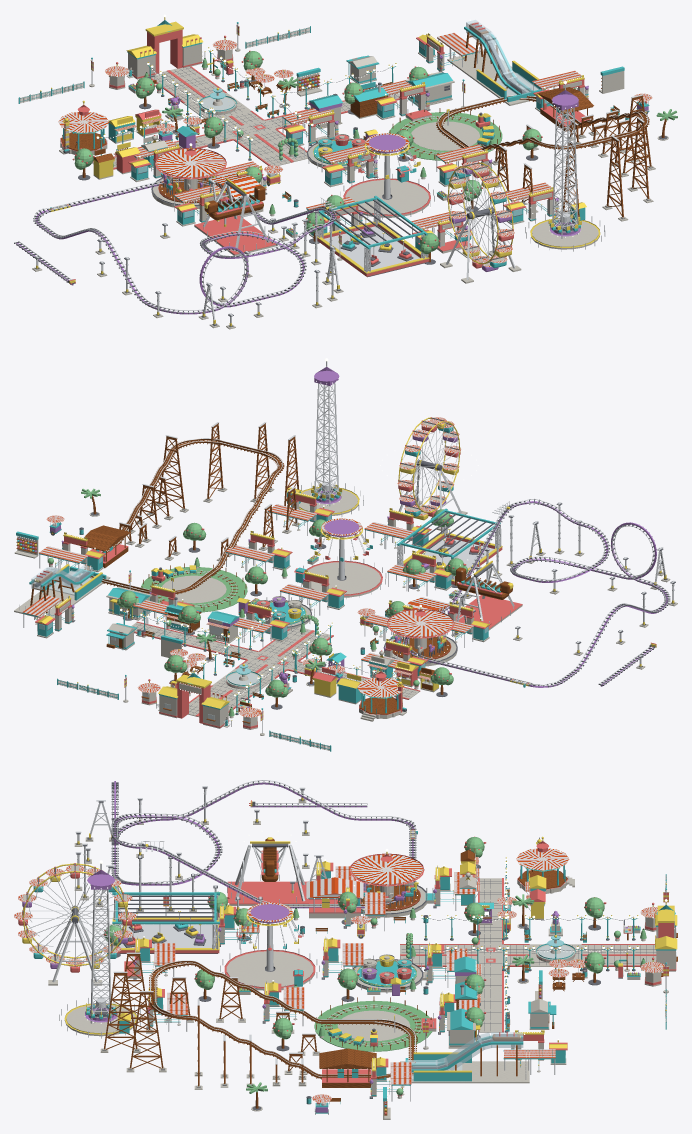
The model's file is theme-park-rides-and-coasters-theme-park-12693136-starter-scene__28720.glb.
The picture shows the model from 3 angles, top to bottom: view 1: azimuth 30°, elevation 25°; view 2: azimuth 150°, elevation 25°; view 3: azimuth 270°, elevation 25°; orthographic projection. The views are drawn at different scales.
Parts seen in each view (by area): view 1: 264-theme-park-rides-and-coasters-drop-tower/2, 193-theme-park-rides-and-coasters-chair-swing-ride/0, 205-theme-park-rides-and-coasters-bumper-car-arena/1, 157-theme-park-rides-and-coasters-carousel/carousel/stripe, 217-theme-park-rides-and-coasters-kiddie-train-ride/1, 181-theme-park-rides-and-coasters-pirate-ship/1, 229-theme-park-rides-and-coasters-log-flume-section/1, 217-theme-park-rides-and-coasters-kiddie-train-ride/0, 252-theme-park-rides-and-coasters-ferris-wheel/wheel/steel, 252-theme-park-rides-and-coasters-ferris-wheel/8, 229-theme-park-rides-and-coasters-log-flume-section/0, 205-theme-park-rides-and-coasters-bumper-car-arena/0 (+27 smaller); view 2: 264-theme-park-rides-and-coasters-drop-tower/2, 193-theme-park-rides-and-coasters-chair-swing-ride/0, 217-theme-park-rides-and-coasters-kiddie-train-ride/0, 157-theme-park-rides-and-coasters-carousel/carousel/stripe, 217-theme-park-rides-and-coasters-kiddie-train-ride/1, 252-theme-park-rides-and-coasters-ferris-wheel/8, 252-theme-park-rides-and-coasters-ferris-wheel/wheel/steel, 205-theme-park-rides-and-coasters-bumper-car-arena/1, 229-theme-park-rides-and-coasters-log-flume-section/1, 383-theme-park-rides-and-coasters-timber-station/0, 181-theme-park-rides-and-coasters-pirate-ship/1, 029-theme-park-rides-and-coasters-park-entrance-gate/0 (+12 smaller); view 3: 217-theme-park-rides-and-coasters-kiddie-train-ride/0, 193-theme-park-rides-and-coasters-chair-swing-ride/0, 157-theme-park-rides-and-coasters-carousel/carousel/stripe, 252-theme-park-rides-and-coasters-ferris-wheel/wheel/steel, 264-theme-park-rides-and-coasters-drop-tower/2, 229-theme-park-rides-and-coasters-log-flume-section/2, 205-theme-park-rides-and-coasters-bumper-car-arena/0, 229-theme-park-rides-and-coasters-log-flume-section/0, 205-theme-park-rides-and-coasters-bumper-car-arena/1, 229-theme-park-rides-and-coasters-log-flume-section/1, 181-theme-park-rides-and-coasters-pirate-ship/1, 383-theme-park-rides-and-coasters-timber-station/0 (+23 smaller).
Boxes of the visible parts, x1,y1,x2,y2 form: 264-theme-park-rides-and-coasters-drop-tower/2: (525,84,605,251); 193-theme-park-rides-and-coasters-chair-swing-ride/0: (345,180,430,217); 205-theme-park-rides-and-coasters-bumper-car-arena/1: (317,199,428,272); 157-theme-park-rides-and-coasters-carousel/carousel/stripe: (155,148,226,178); 217-theme-park-rides-and-coasters-kiddie-train-ride/1: (405,115,479,150); 181-theme-park-rides-and-coasters-pirate-ship/1: (194,215,275,254); 229-theme-park-rides-and-coasters-log-flume-section/1: (466,20,539,98); 217-theme-park-rides-and-coasters-kiddie-train-ride/0: (388,112,502,160); 252-theme-park-rides-and-coasters-ferris-wheel/wheel/steel: (448,164,511,262); 252-theme-park-rides-and-coasters-ferris-wheel/8: (446,162,514,266); 229-theme-park-rides-and-coasters-log-flume-section/0: (447,50,537,105); 205-theme-park-rides-and-coasters-bumper-car-arena/0: (324,199,424,277); 264-theme-park-rides-and-coasters-drop-tower/2: (299,361,363,516); 193-theme-park-rides-and-coasters-chair-swing-ride/0: (302,562,382,597); 217-theme-park-rides-and-coasters-kiddie-train-ride/0: (140,567,247,612); 157-theme-park-rides-and-coasters-carousel/carousel/stripe: (387,609,453,637); 217-theme-park-rides-and-coasters-kiddie-train-ride/1: (162,575,226,603); 252-theme-park-rides-and-coasters-ferris-wheel/8: (397,417,461,515); 252-theme-park-rides-and-coasters-ferris-wheel/wheel/steel: (399,422,459,511); 205-theme-park-rides-and-coasters-bumper-car-arena/1: (397,512,501,580); 229-theme-park-rides-and-coasters-log-flume-section/1: (31,565,103,595); 383-theme-park-rides-and-coasters-timber-station/0: (78,525,130,568); 181-theme-park-rides-and-coasters-pirate-ship/1: (456,595,522,628); 029-theme-park-rides-and-coasters-park-entrance-gate/0: (159,683,228,728); 217-theme-park-rides-and-coasters-kiddie-train-ride/0: (314,1000,432,1051); 193-theme-park-rides-and-coasters-chair-swing-ride/0: (225,951,314,990); 157-theme-park-rides-and-coasters-carousel/carousel/stripe: (350,854,423,885); 252-theme-park-rides-and-coasters-ferris-wheel/wheel/steel: (24,865,126,965); 264-theme-park-rides-and-coasters-drop-tower/2: (59,863,142,1038); 229-theme-park-rides-and-coasters-log-flume-section/2: (405,1036,523,1081); 205-theme-park-rides-and-coasters-bumper-car-arena/0: (118,895,217,953); 229-theme-park-rides-and-coasters-log-flume-section/0: (400,1061,529,1083); 205-theme-park-rides-and-coasters-bumper-car-arena/1: (113,895,218,949); 229-theme-park-rides-and-coasters-log-flume-section/1: (406,1032,523,1080); 181-theme-park-rides-and-coasters-pirate-ship/1: (227,881,308,904); 383-theme-park-rides-and-coasters-timber-station/0: (319,1048,376,1087).
Bounding box in the file's own units: 117 × 27.43 × 102.
Materials: 12 (3 with a texture image).
